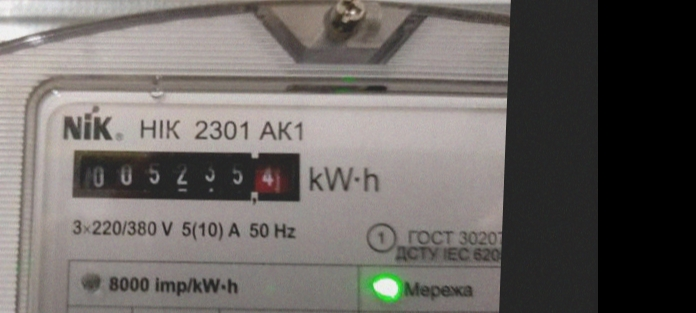0: (88, 163, 104, 188), (116, 162, 132, 186)
2: (171, 160, 188, 186)
3: (198, 158, 216, 183)
4: (256, 160, 275, 190)
5: (226, 158, 243, 186), (144, 160, 159, 185)
screen: (56, 133, 309, 215)
